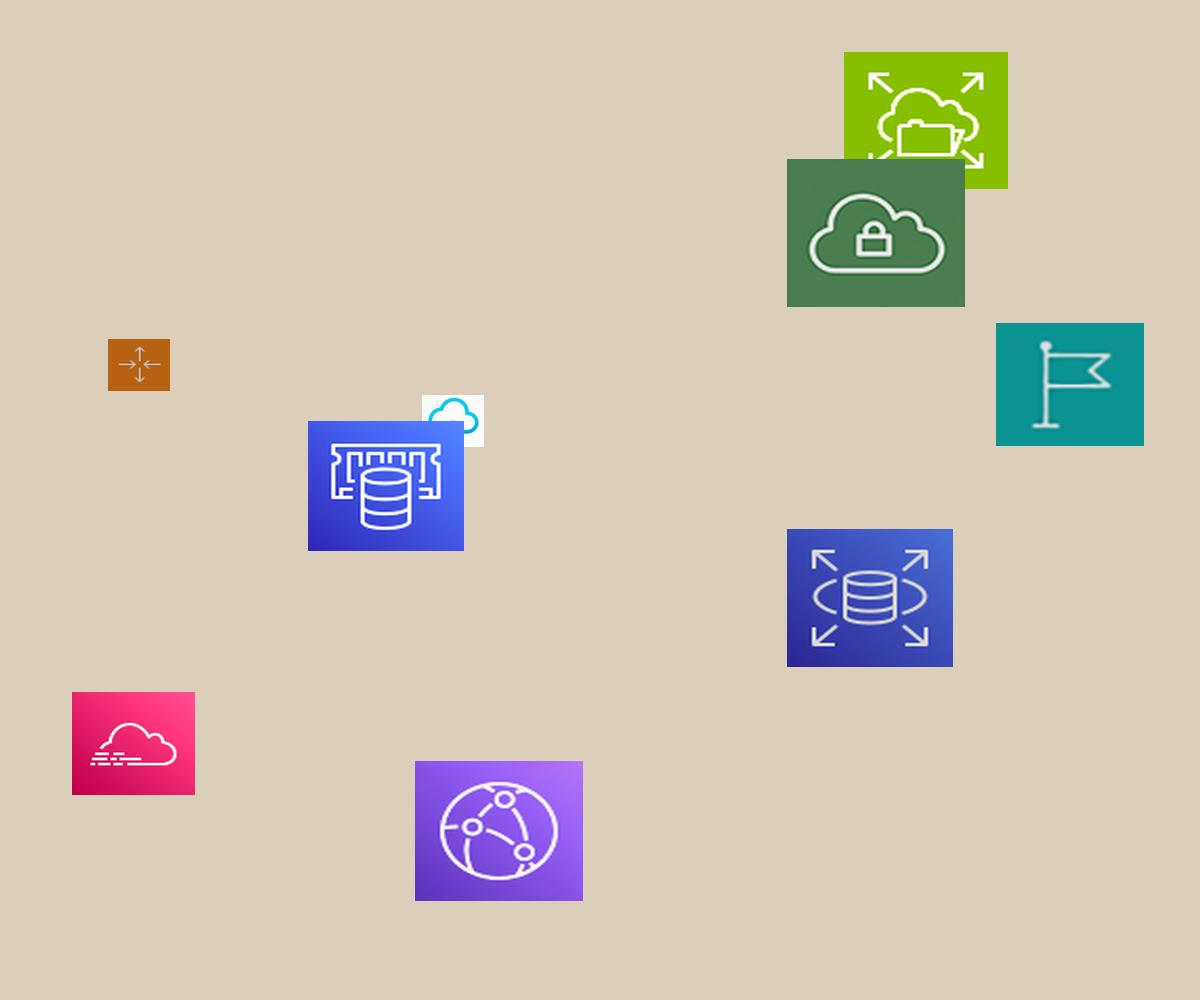AWS-CloudFront: (415, 761, 583, 901)
AWS-CloudTrail: (72, 692, 195, 795)
AWS-EFS: (844, 52, 1008, 189)
AWS-ElastiCache: (308, 421, 464, 551)
AWS-Private_vpc: (787, 159, 965, 307)
AWS-RDS: (787, 529, 953, 667)
AWS-Region: (996, 323, 1144, 446)
AWS-Scaling-group: (108, 339, 170, 391)
Azure_api_gateway: (422, 395, 484, 447)
